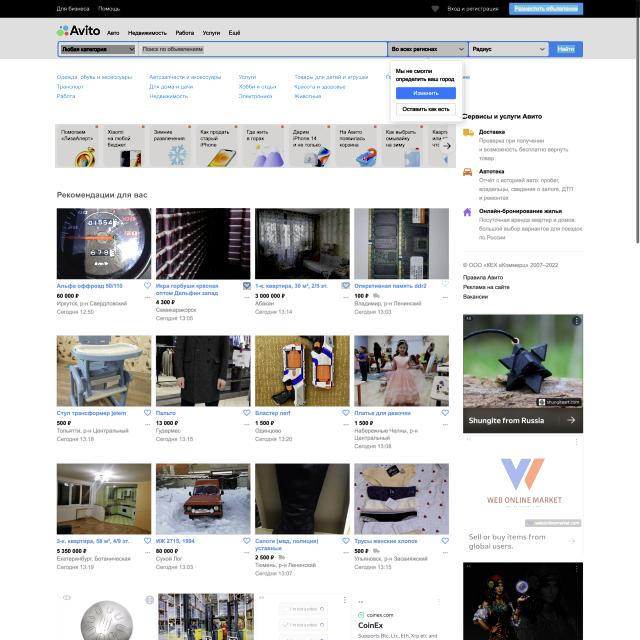CheckBox: (509, 2, 584, 16), (549, 41, 584, 57)
ImageView: (463, 313, 583, 433), (463, 436, 583, 555), (463, 562, 583, 640), (353, 593, 449, 640), (255, 593, 351, 640), (158, 593, 254, 640), (61, 593, 156, 640)
Switch: (55, 124, 456, 168)
alert: (388, 42, 468, 56), (469, 42, 549, 56), (61, 45, 135, 54)
bag: (0, 0, 636, 59)
breadcrumbs: (56, 190, 148, 201)
carousel: (243, 282, 251, 290), (441, 282, 449, 290), (143, 282, 152, 289), (341, 282, 350, 289)
copy: (156, 208, 250, 280), (255, 208, 350, 279), (57, 208, 151, 279)
data feed: (514, 5, 578, 12), (557, 45, 575, 53)
date picker: (57, 23, 101, 38)
decoration: (55, 70, 372, 103), (106, 28, 242, 38), (54, 4, 122, 14)
footer: (142, 46, 204, 54)
label: (392, 58, 466, 122)
